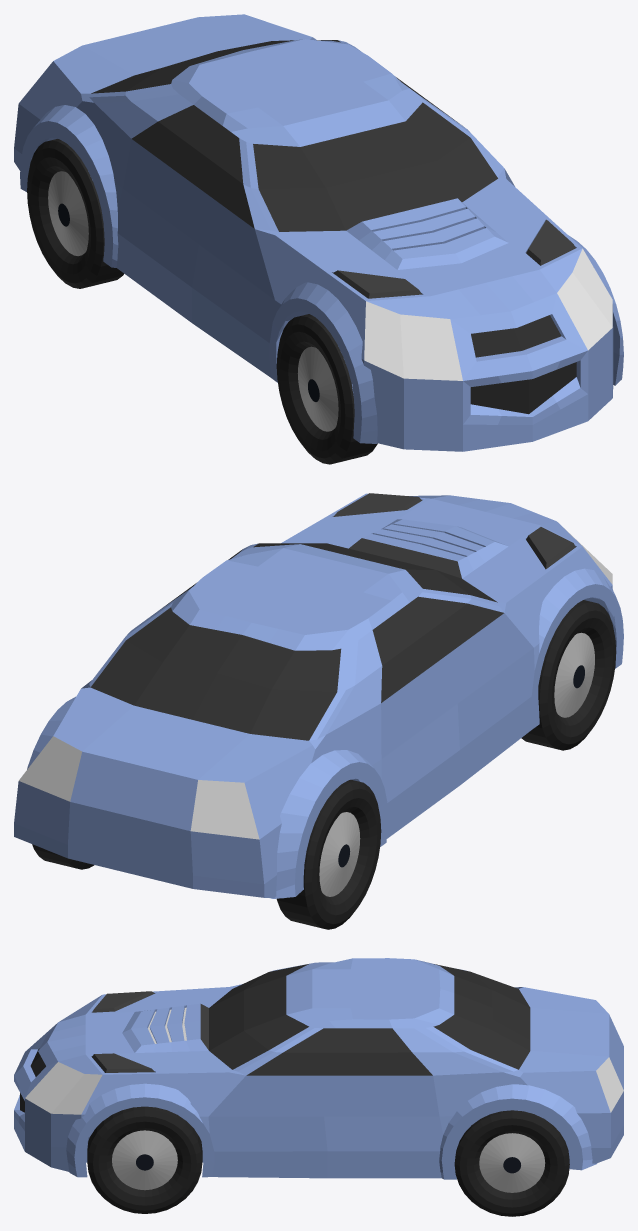
The model's file is Car.fbx.
The picture shows the model from 3 angles, top to bottom: view 1: azimuth 30°, elevation 25°; view 2: azimuth 150°, elevation 25°; view 3: azimuth 270°, elevation 25°; orthographic projection. The views are drawn at different scales.
Parts seen in each view (by area): view 1: Body, Tire_Front, Tire_Front.001; view 2: Body, Tire_Front.001, Tire_Front; view 3: Body, Tire_Front, Tire_Front.001.
Boxes of the visible parts, left/top/right/bottom form: Body: left=14, top=14, right=623, bottom=451; Tire_Front: left=276, top=314, right=377, bottom=464; Tire_Front.001: left=27, top=139, right=123, bottom=288; Body: left=14, top=493, right=623, bottom=898; Tire_Front.001: left=32, top=779, right=381, bottom=929; Tire_Front: left=521, top=600, right=616, bottom=750; Body: left=14, top=958, right=623, bottom=1179; Tire_Front: left=87, top=1106, right=202, bottom=1213; Tire_Front.001: left=454, top=1110, right=569, bottom=1216.
Size of the model in its own units: 2.29 by 1.78 by 5.57.
